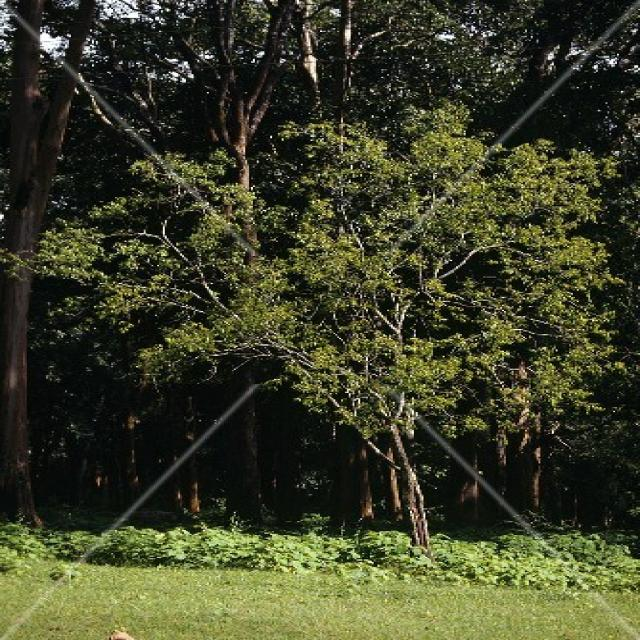Medicinal-Sandalwood: (26, 91, 627, 549)
